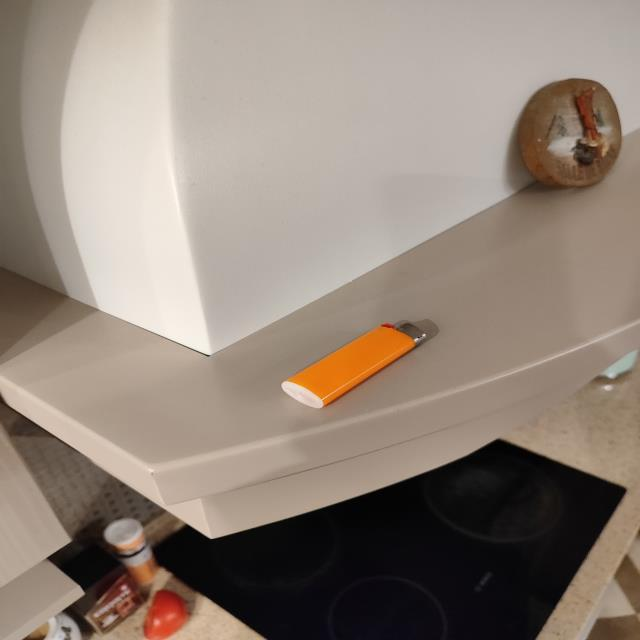lighter: (281, 321, 437, 408)
